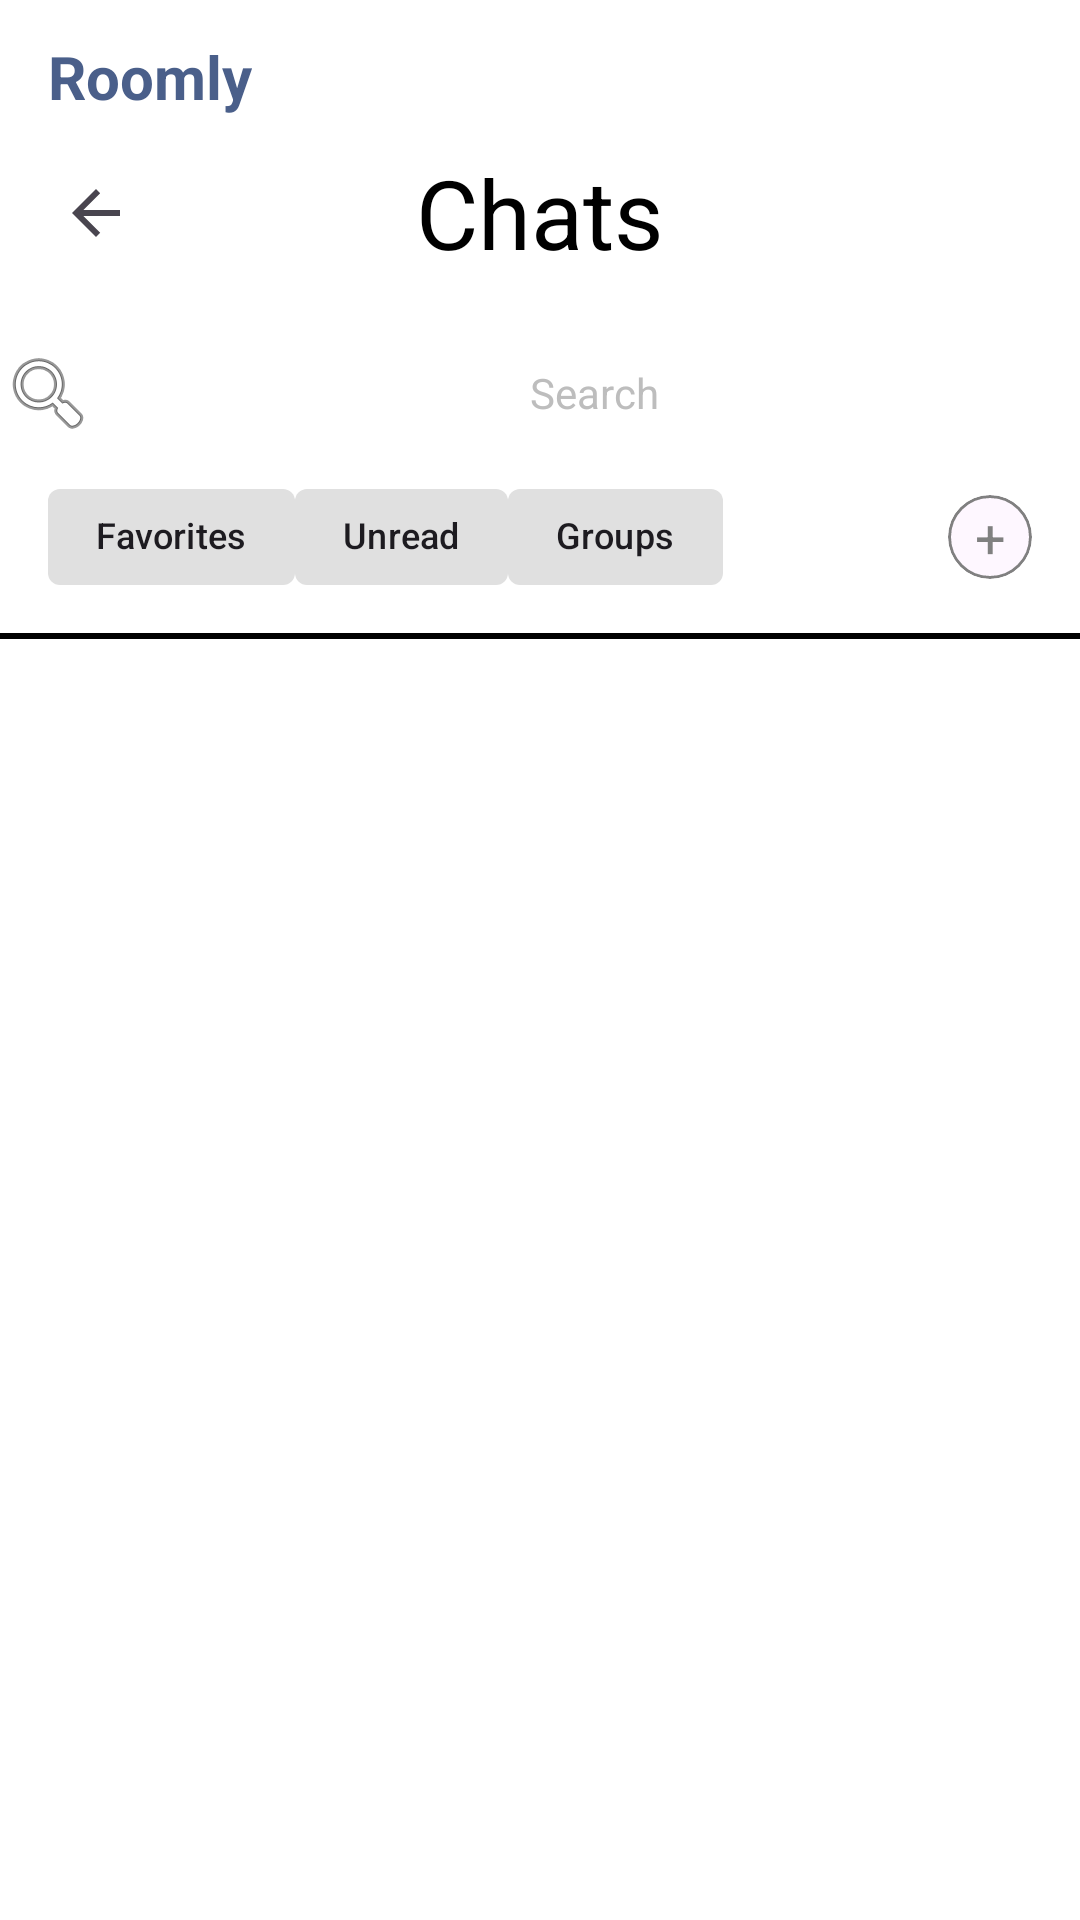

Icons on this 1080w x 1920h Android screen, each with its box as (x1, y1, x2, y2):
Back: (72, 189, 120, 237)
